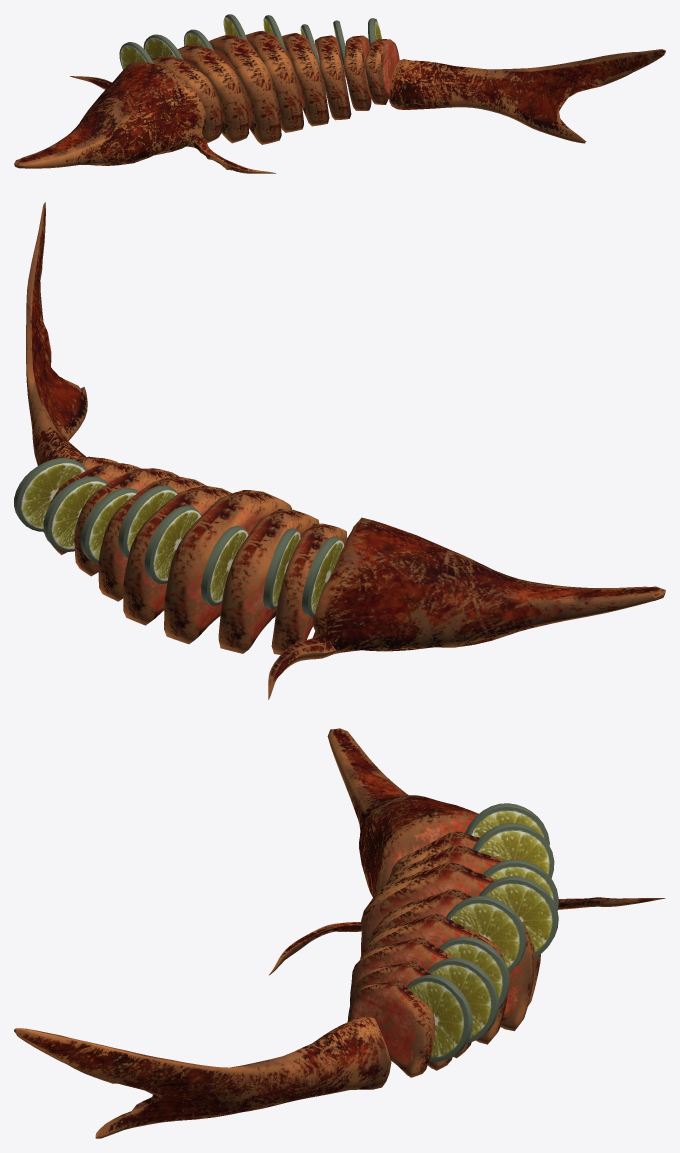
The model's file is SM_FishFullServe.fbx.
3 renders of one model, top to bottom at view 1: azimuth 30°, elevation 25°; view 2: azimuth 150°, elevation 25°; view 3: azimuth 270°, elevation 25°, orthographic. The views are drawn at different scales.
Visible parts, largest first — view 1: SM_FishFullServe_LOD0; view 2: SM_FishFullServe_LOD0; view 3: SM_FishFullServe_LOD0.
Boxes of the visible parts, x1,y1,x2,y2 form: SM_FishFullServe_LOD0: (14, 14, 665, 173); SM_FishFullServe_LOD0: (14, 202, 665, 699); SM_FishFullServe_LOD0: (14, 728, 665, 1138).
Size of the model in its own units: 99.37 by 69.97 by 20.43.
1 material, 1 textured.
